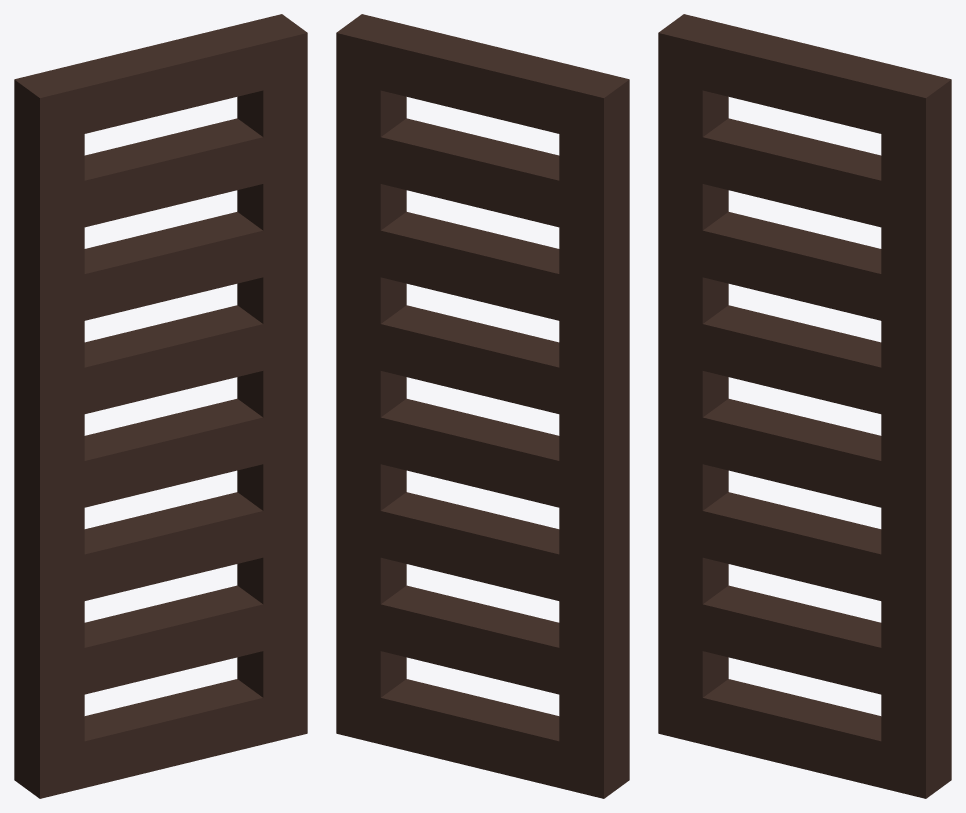
The model's file is TallBuilding02-10.obj.
The picture shows the model from 3 angles, left to right: view 1: azimuth 30°, elevation 25°; view 2: azimuth 150°, elevation 25°; view 3: azimuth 330°, elevation 25°; orthographic projection.
Size of the model in its own units: 0.6 by 1.5 by 0.1.
1 material, 1 textured.
